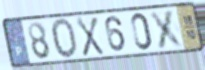0: (130, 12, 153, 52)
6: (104, 15, 128, 54)
8: (27, 21, 52, 61)
O: (50, 17, 79, 61)
X: (147, 8, 187, 51), (74, 16, 106, 58)
